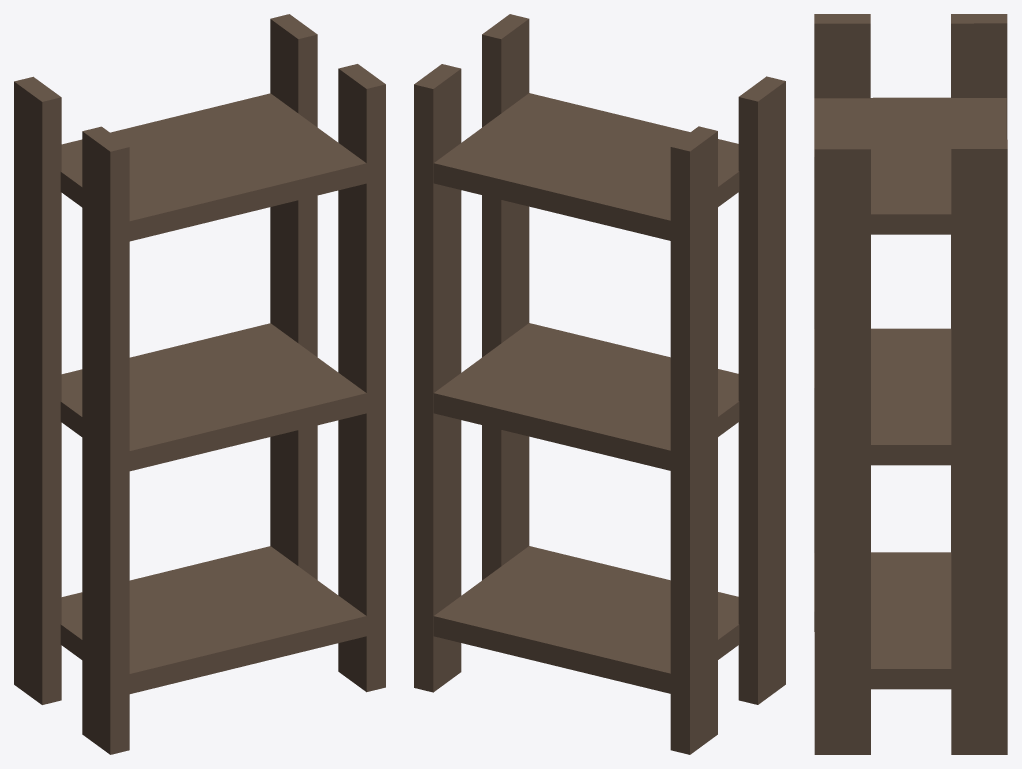
Rendered from Rack.fbx.
3 renders of one model, left to right at view 1: azimuth 30°, elevation 25°; view 2: azimuth 150°, elevation 25°; view 3: azimuth 270°, elevation 25°, orthographic.
Visible parts, largest first — view 1: Rack; view 2: Rack; view 3: Rack.
Boxes of the visible parts, x1,y1,x2,y2 form: Rack: [14, 14, 385, 754]; Rack: [414, 14, 785, 754]; Rack: [814, 14, 1007, 754].
Bounding box in the file's own units: 126 × 75.99 × 262.
